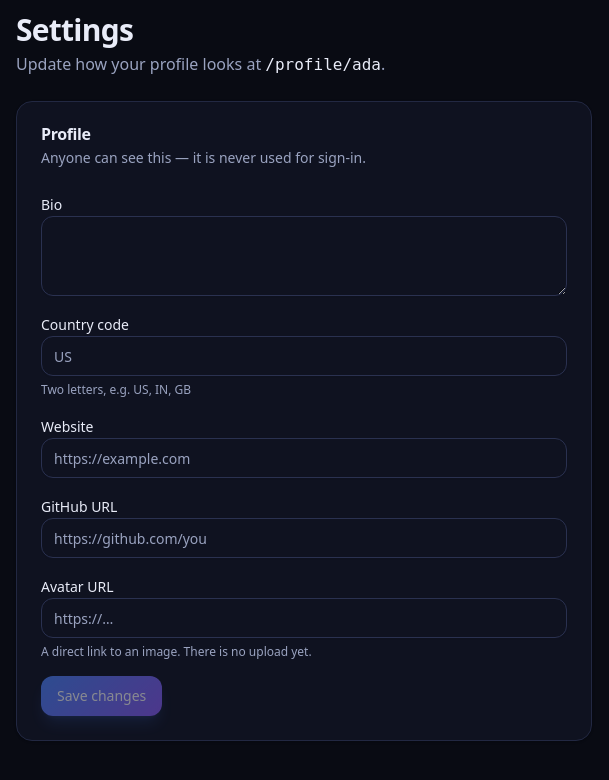
SettingsForm › shows a validation error for a bad website and does not submit
Type "javascript:alert(1)" into the field labelled "Website" at (304, 458), box x1=41 y1=438 x2=567 y2=478
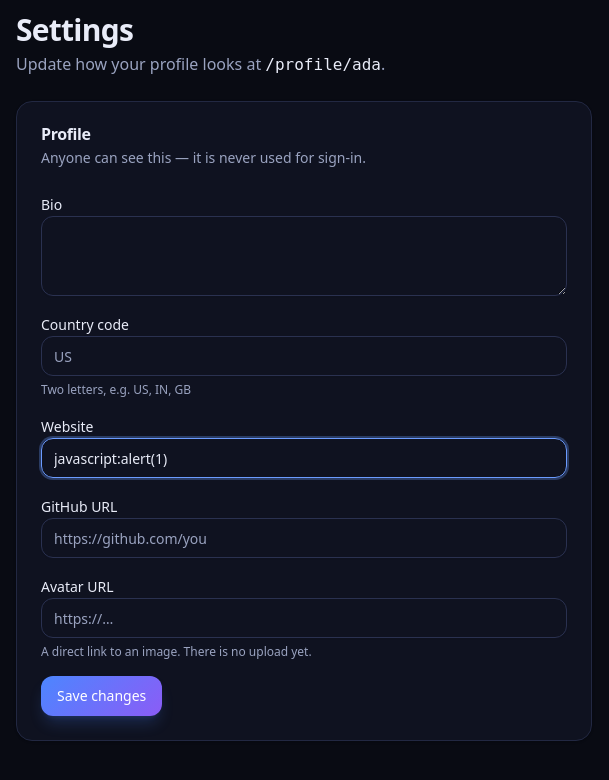
Click the button "Save changes" at (102, 696), box x1=41 y1=676 x2=162 y2=716
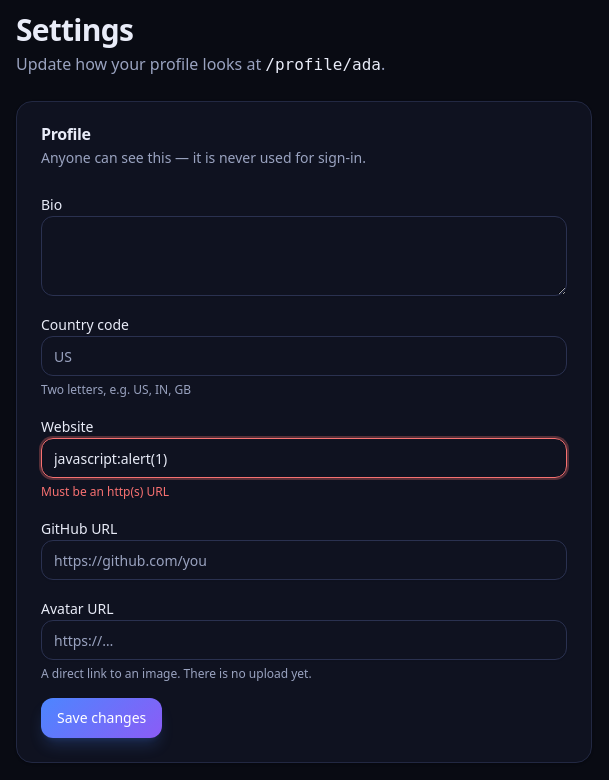
Result: the text "Must be an http(s) URL" is shown at x1=41 y1=483 x2=169 y2=500
